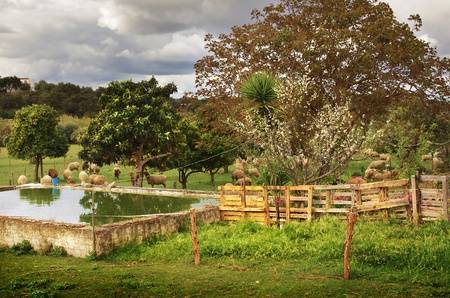sheep: (143, 169, 167, 186), (88, 172, 105, 185), (77, 171, 89, 187), (111, 165, 124, 179), (367, 159, 385, 169), (66, 160, 79, 169), (37, 175, 50, 184), (47, 169, 60, 178), (15, 172, 26, 182)
